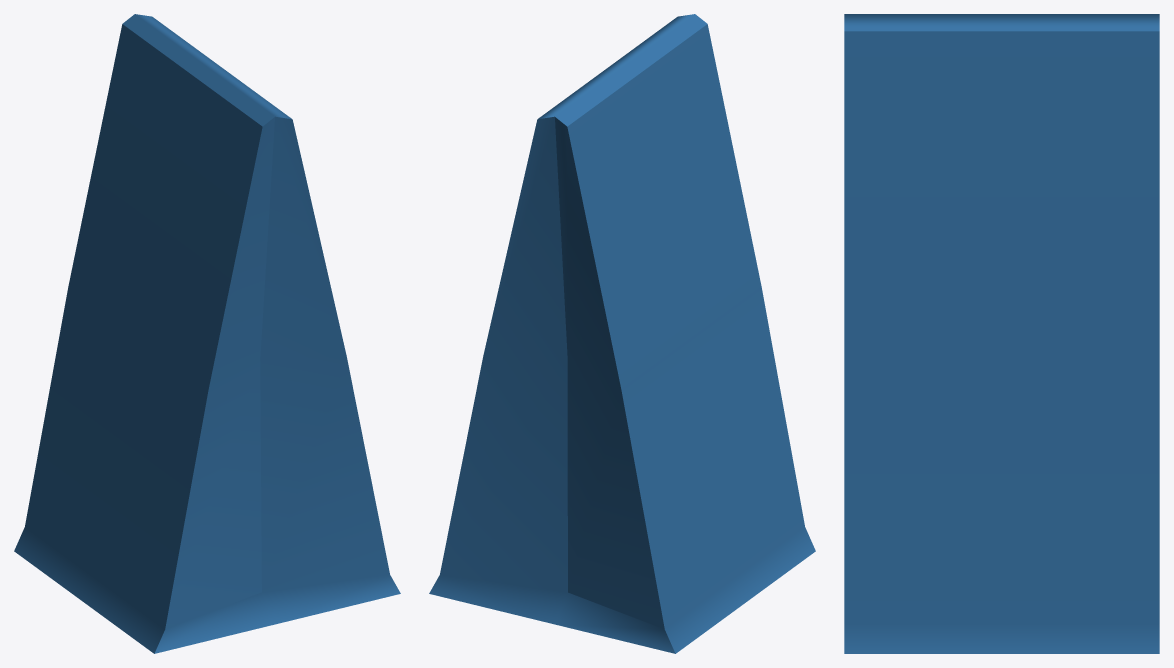
File: bolsacafe01.fbx
The picture shows the model from 3 angles, left to right: view 1: azimuth 30°, elevation 25°; view 2: azimuth 150°, elevation 25°; view 3: azimuth 270°, elevation 25°; orthographic projection. The views are drawn at different scales.
Parts seen in each view (by area): view 1: polySurface2613; view 2: polySurface2613; view 3: polySurface2613.
Boxes of the visible parts, <box> form: polySurface2613: <box>14,14,400,653</box>; polySurface2613: <box>429,14,815,653</box>; polySurface2613: <box>844,14,1159,653</box>.
Bounding box in the file's own units: 0.2653 × 0.522 × 0.2615.
